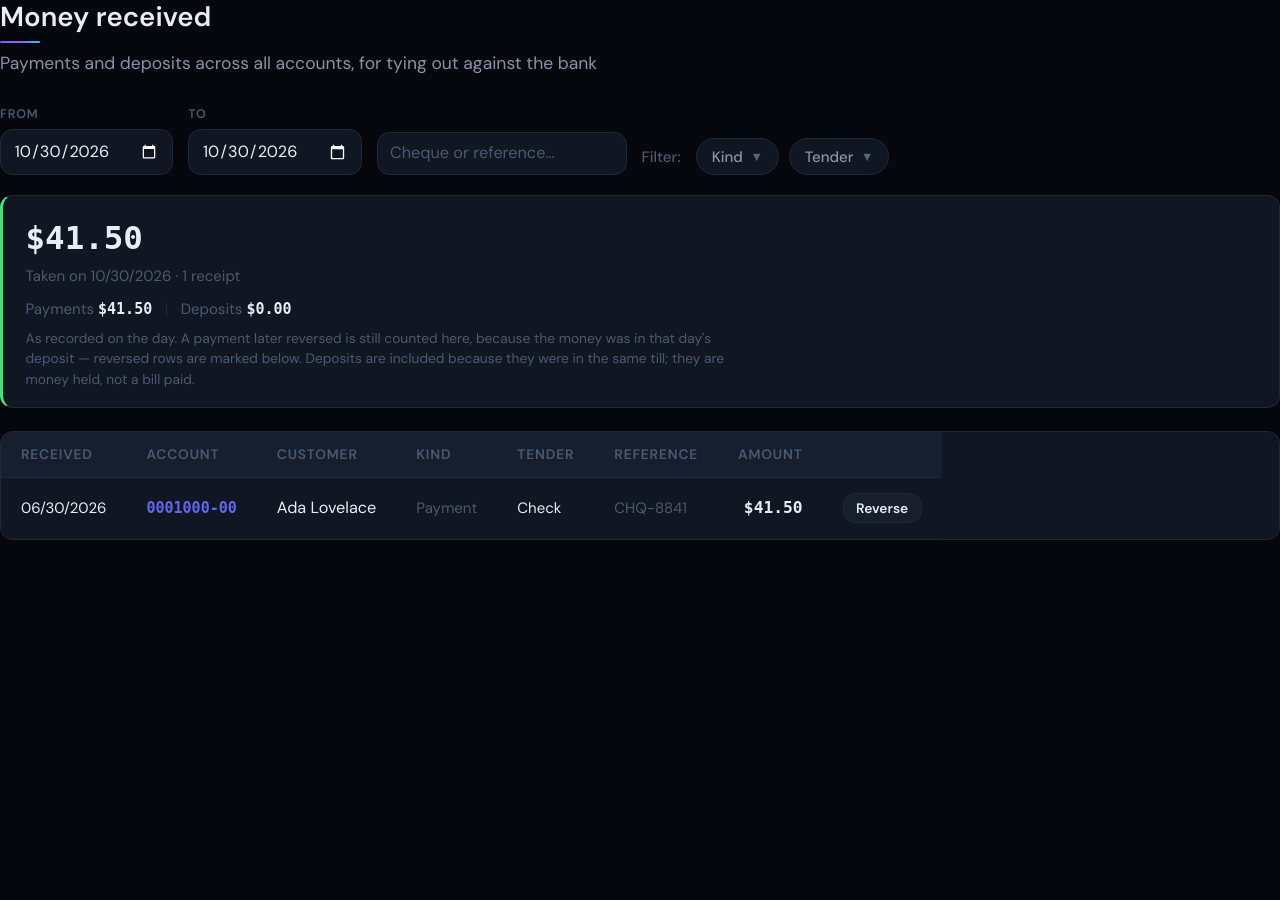
Test case: Receipts page — reversing a receipt › says dependent fees still stand
Step 1. Click the button "Reverse" → (882, 508), box x1=843 y1=493 x2=922 y2=523
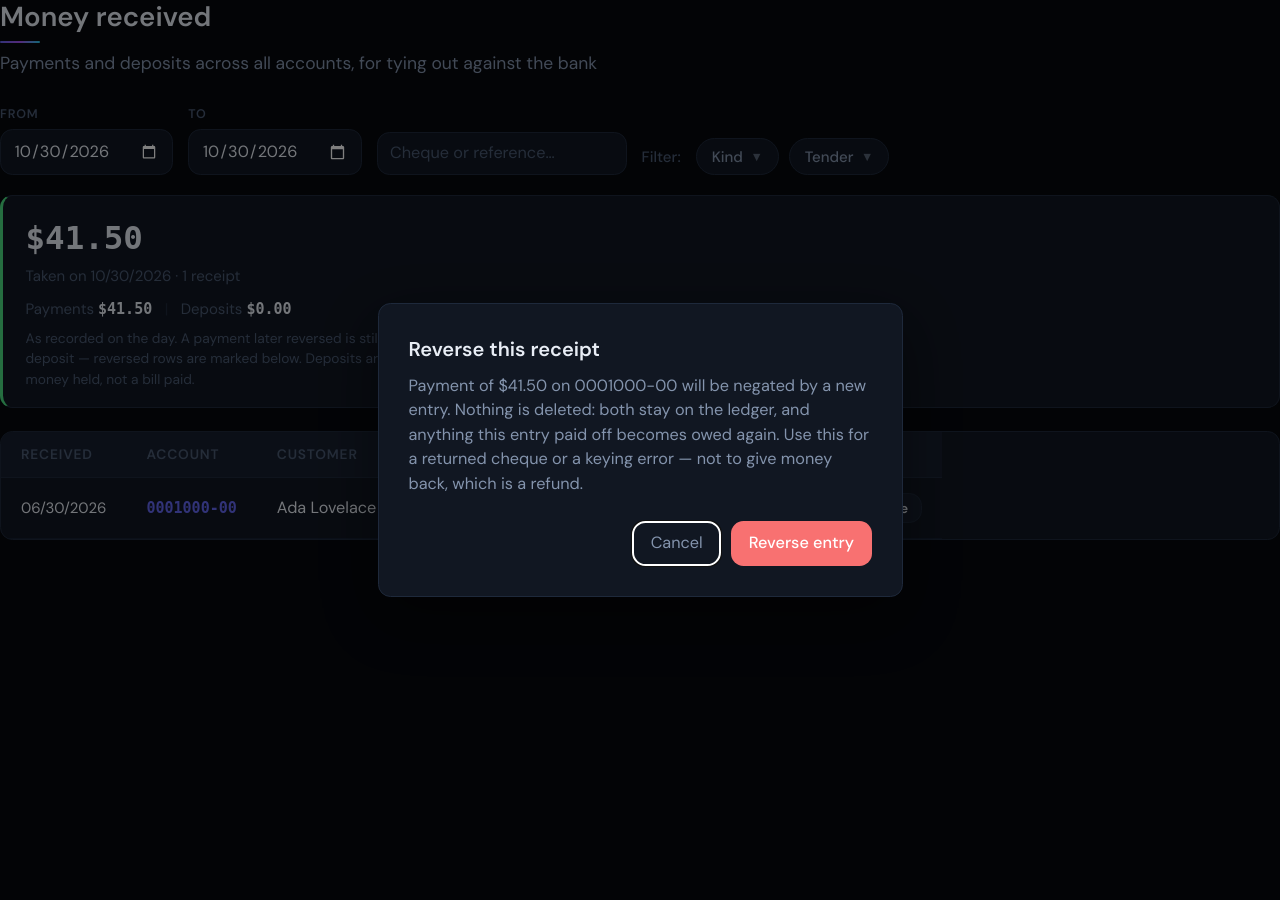
Step 2. Click the button "Reverse entry" → (801, 543), box x1=731 y1=521 x2=872 y2=566
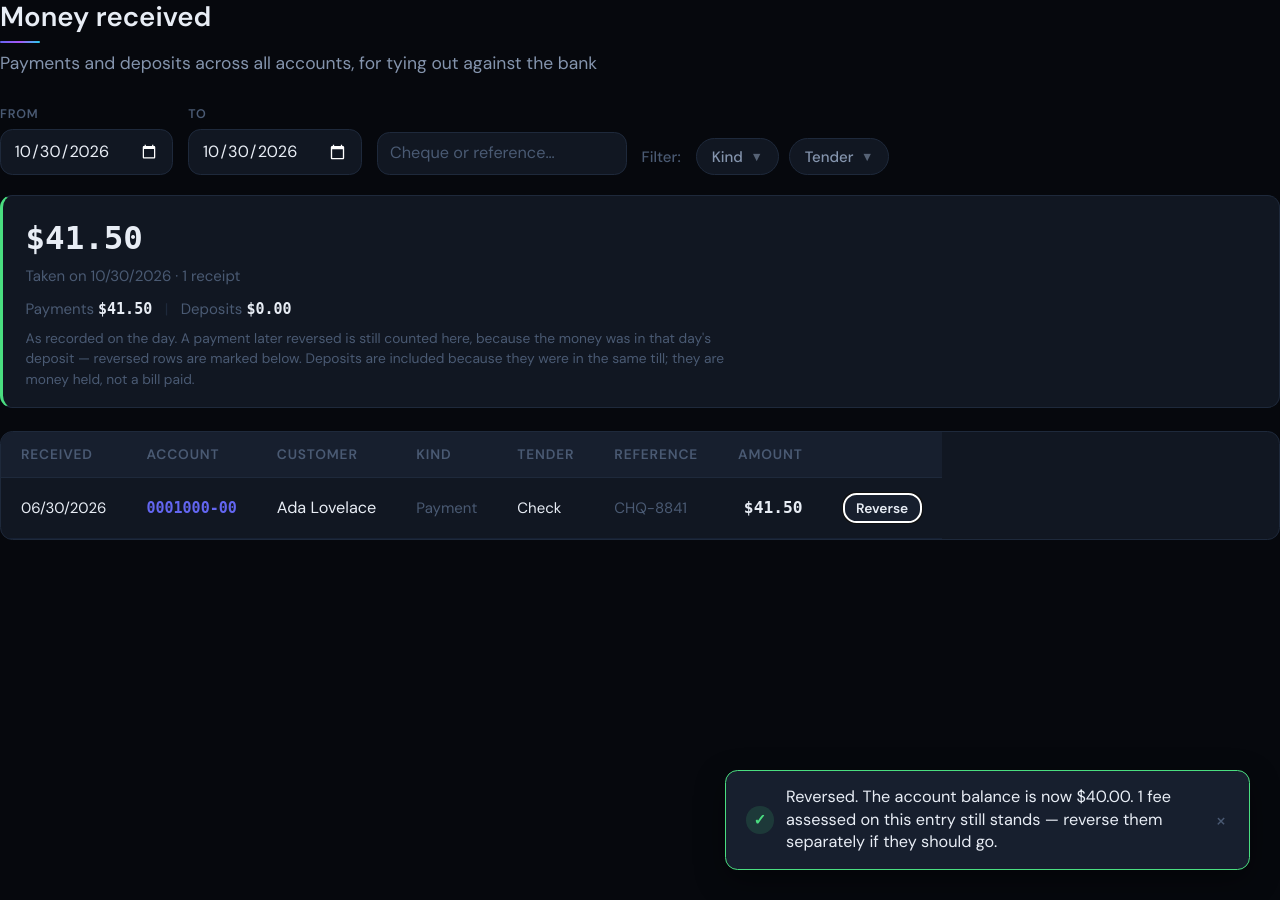
Result: the text "1 fee assessed on this entry still stands" is shown at x1=786 y1=786 x2=1171 y2=852
